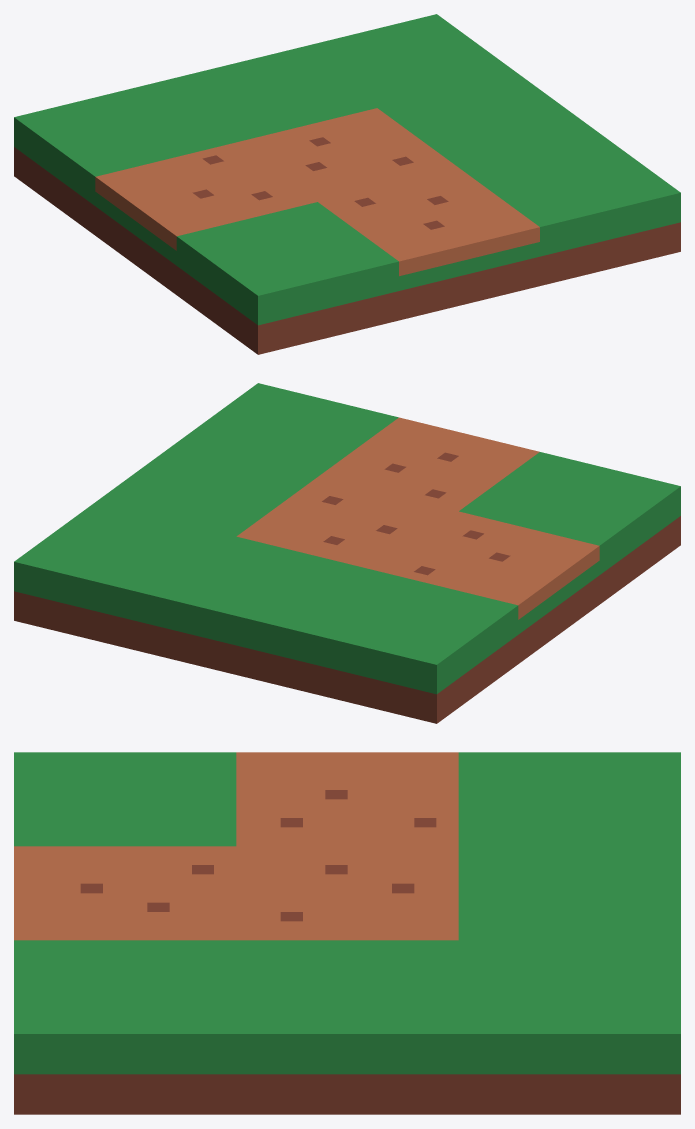
The model's file is Corner01.obj.
3 renders of one model, top to bottom at view 1: azimuth 30°, elevation 25°; view 2: azimuth 150°, elevation 25°; view 3: azimuth 270°, elevation 25°, orthographic. The views are drawn at different scales.
Bounding box in the file's own units: 3 × 0.4 × 3.
Materials: 1 (1 with a texture image).
